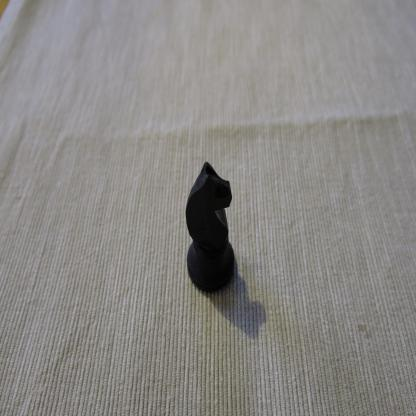black-knight: (185, 160, 236, 292)
